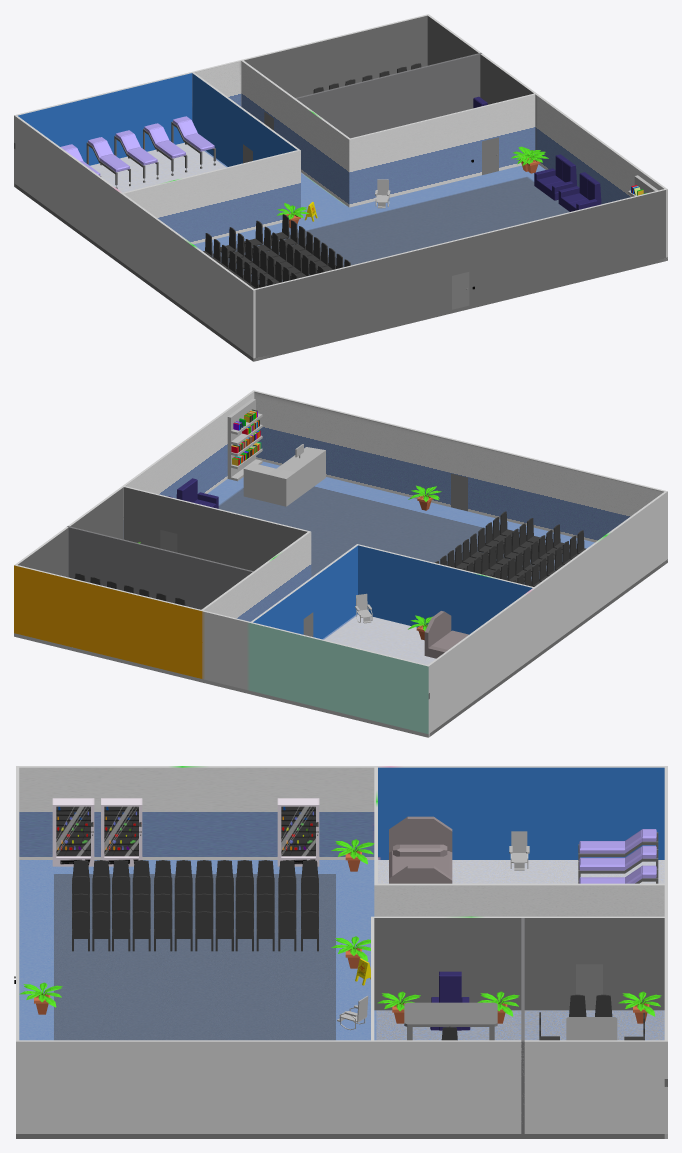
Rendered from HospitalV2.fbx.
The picture shows the model from 3 angles, top to bottom: view 1: azimuth 30°, elevation 25°; view 2: azimuth 150°, elevation 25°; view 3: azimuth 270°, elevation 25°; orthographic projection. The views are drawn at different scales.
Visible parts, largest first — view 1: ParedFrontal, Suelo, ParedTrasera, ParedIzquierda, ParedDespacho, ParedCamillas, ParedDivision, ParedDerecha, ParedReuniones, ParedCamillasEntrada, Sofá, Sofá.001 (+6 smaller); view 2: ParedTrasera, ParedFrontal, Suelo, ParedIzquierda, ParedCamillas, ParedDespacho, ParedDivision, ParedDerecha, ParedCamillasEntrada, ParedReuniones, Recepción, Estanteria (+3 smaller); view 3: ParedDerecha, Suelo, ParedIzquierda, ParedReuniones, ParedCamillasEntrada, Cama, Expendedora1, Expendedora3, Expendedora2, Mesa, ParedTrasera, Camilla.004 (+20 smaller).
Boxes of the visible parts, box(x1,y1,x2,y2) form: ParedFrontal: box(254, 189, 665, 357); Suelo: box(14, 142, 667, 361); ParedTrasera: box(14, 14, 429, 183); ParedIzquierda: box(15, 115, 255, 358); ParedDespacho: box(348, 93, 535, 207); ParedCamillas: box(123, 150, 298, 244); ParedDivision: box(295, 53, 481, 138); ParedDerecha: box(427, 15, 667, 257); ParedReuniones: box(241, 60, 349, 206); ParedCamillasEntrada: box(192, 72, 300, 214); Sofá: box(534, 154, 576, 200); Sofá.001: box(558, 172, 601, 211); ParedTrasera: box(14, 564, 429, 734); ParedFrontal: box(254, 390, 665, 542); Suelo: box(14, 461, 667, 737); ParedIzquierda: box(428, 491, 667, 732); ParedCamillas: box(358, 544, 533, 634); ParedDespacho: box(124, 486, 311, 577); ParedDivision: box(67, 526, 253, 609); ParedDerecha: box(15, 390, 254, 577); ParedCamillasEntrada: box(251, 544, 358, 639); ParedReuniones: box(201, 532, 309, 621); Recepción: box(243, 444, 325, 506); Estanteria: box(227, 398, 262, 481); ParedDerecha: box(16, 1040, 664, 1133); Suelo: box(16, 860, 667, 1138); ParedIzquierda: box(16, 766, 664, 859); ParedReuniones: box(374, 916, 664, 1010); ParedCamillasEntrada: box(374, 883, 664, 916); Cama: box(389, 816, 452, 883); Expendedora1: box(52, 798, 94, 866); Expendedora3: box(277, 798, 319, 866); Expendedora2: box(101, 798, 142, 866); Mesa: box(404, 1002, 497, 1040); ParedTrasera: box(664, 766, 667, 1133); Camilla.004: box(578, 845, 658, 880).
Bounding box in the file's own units: 4322 × 710 × 4334.
